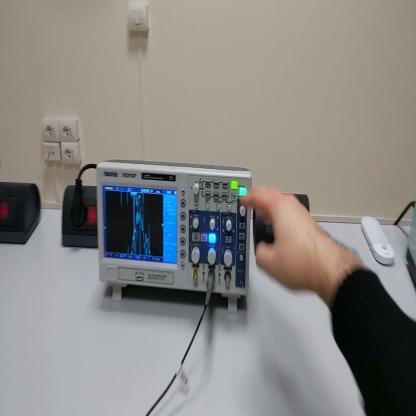hand: (240, 186, 325, 291)
oscilloscope: (94, 160, 253, 315)
socket: (2, 180, 43, 248), (62, 188, 99, 251)
welder station: (404, 200, 416, 288)
